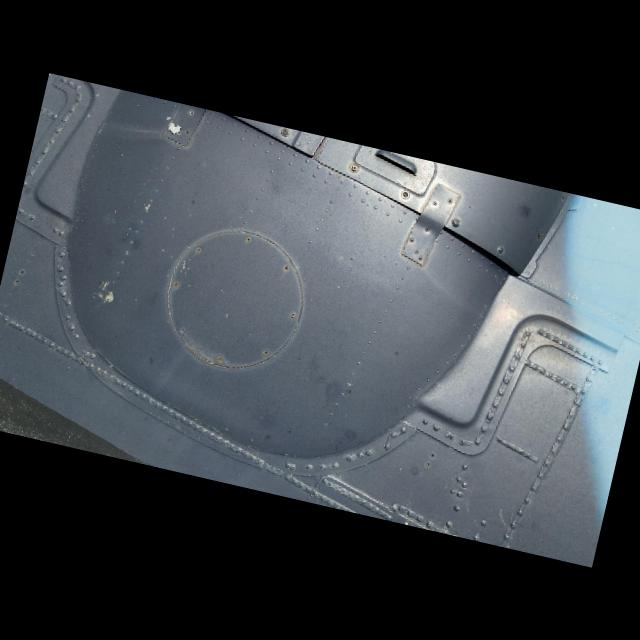Missing Fastener: (396, 187, 416, 201)
